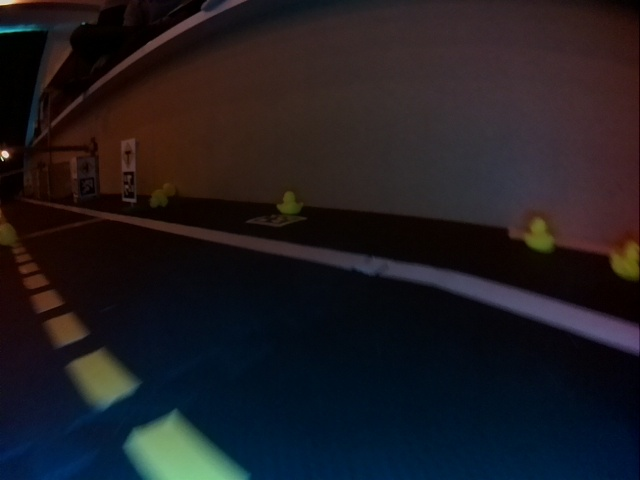Duckie: (610, 241, 639, 281), (525, 218, 554, 250), (277, 191, 298, 214), (147, 191, 169, 207)
Intersection sign: (121, 141, 133, 169)
QR code: (245, 214, 305, 227), (121, 173, 137, 201)
